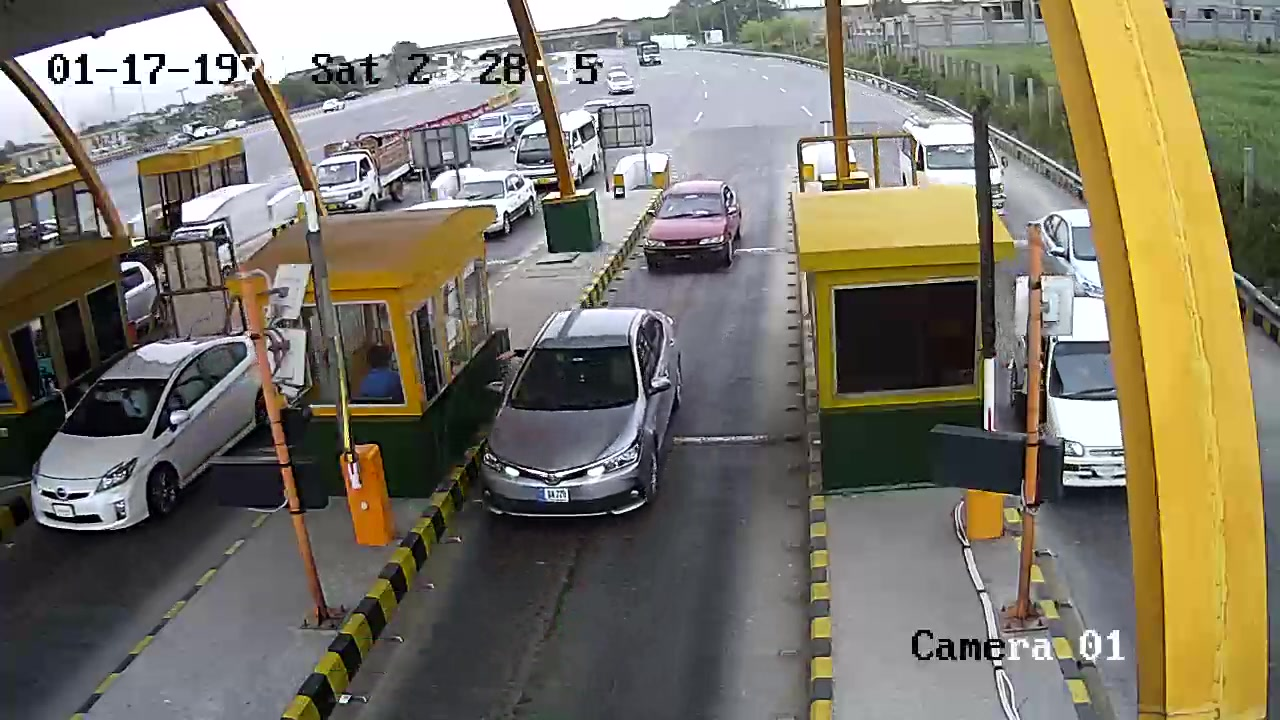F1: (481, 294, 686, 535)
